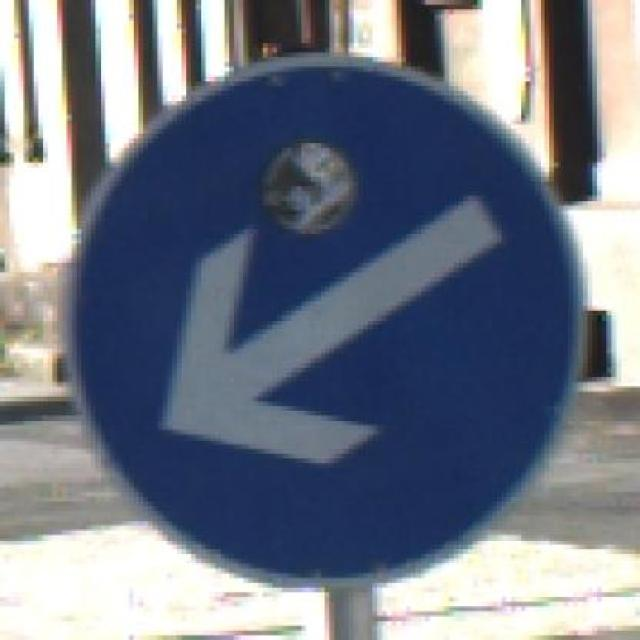Keep-Left: (48, 29, 626, 598)
